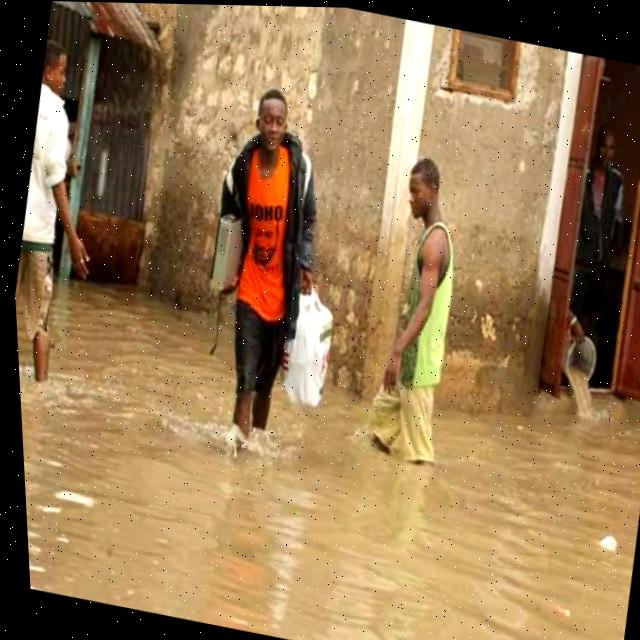civilian: (158, 55, 400, 495), (349, 140, 520, 505), (1, 24, 149, 429), (540, 115, 640, 407)
